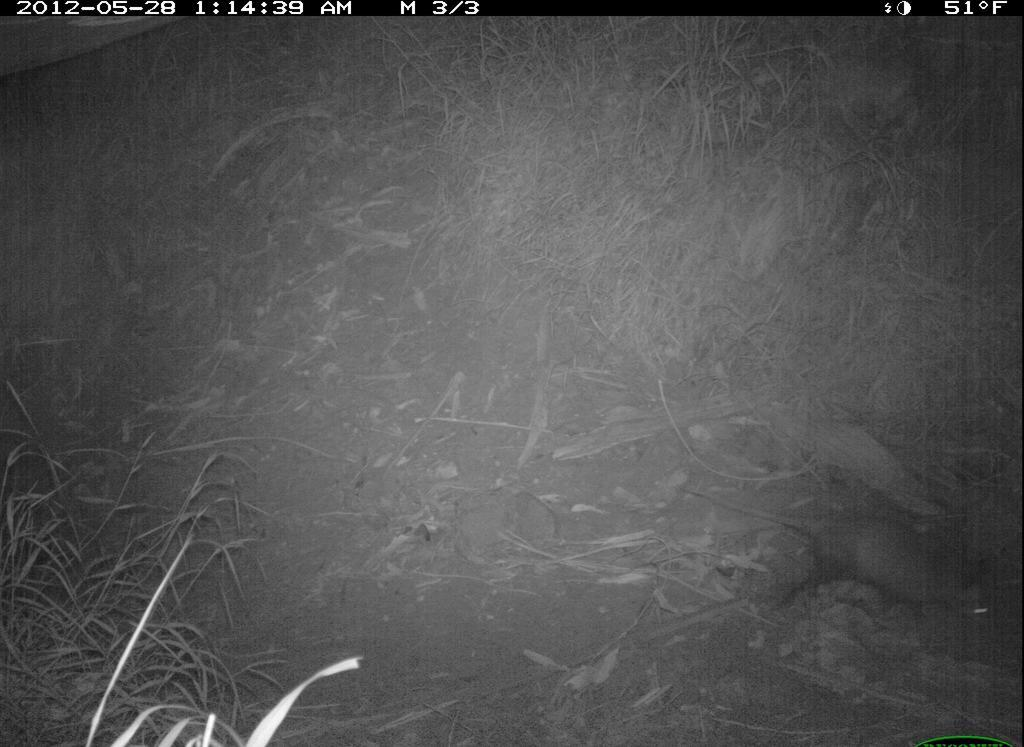opossum: (684, 473, 1012, 648)
